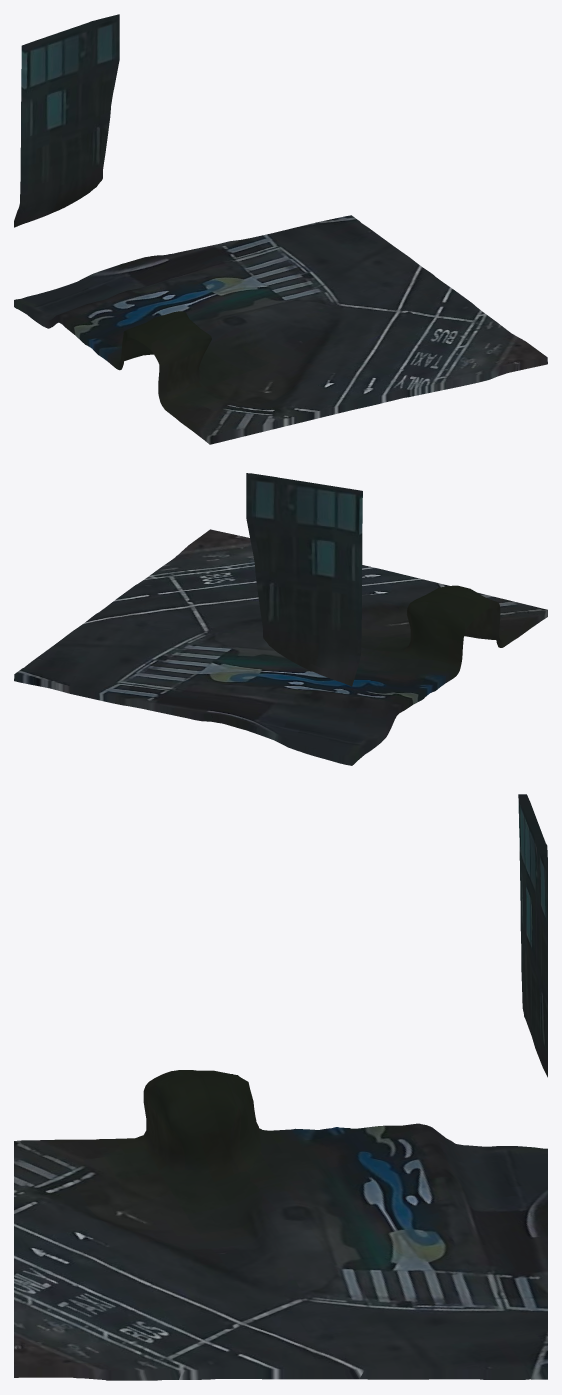
Rendered from z20-167773-405236-h0-yup-uvflip-v3-world.glb.
3 renders of one model, top to bottom at view 1: azimuth 30°, elevation 25°; view 2: azimuth 150°, elevation 25°; view 3: azimuth 270°, elevation 25°, orthographic. The views are drawn at different scales.
Size of the model in its own units: 30.2 by 22.84 by 30.32.
Materials: 1 (1 with a texture image).
